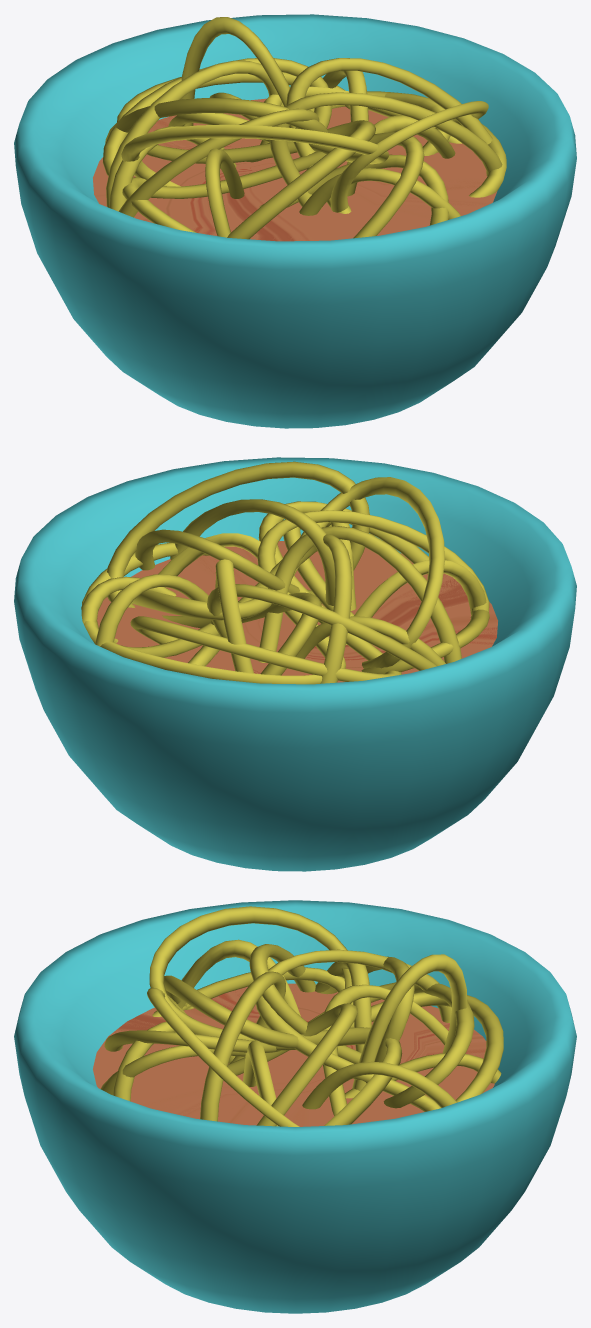
File: cookedPasta.obj
3 renders of one model, top to bottom at view 1: azimuth 30°, elevation 25°; view 2: azimuth 150°, elevation 25°; view 3: azimuth 270°, elevation 25°, orthographic.
Parts seen in each view (by area): view 1: Sphere001, Cylinder001, Torus_Knot008, Torus_Knot006, Torus_Knot007, Torus_Knot009, Torus_Knot005, Torus_Knot002, Torus_Knot003, Torus_Knot004, Torus_Knot011, Torus_Knot001 (+1 smaller); view 2: Sphere001, Cylinder001, Torus_Knot010, Torus_Knot009, Torus_Knot007, Torus_Knot006, Torus_Knot001, Torus_Knot008, Torus_Knot011, Torus_Knot002, Torus_Knot004, Torus_Knot005 (+1 smaller); view 3: Sphere001, Cylinder001, Torus_Knot009, Torus_Knot008, Torus_Knot004, Torus_Knot007, Torus_Knot005, Torus_Knot010, Torus_Knot006, Torus_Knot003, Torus_Knot011, Torus_Knot002 (+1 smaller).
Boxes of the visible parts, <box> form: Sphere001: <box>14,14,576,428</box>; Cylinder001: <box>93,98,497,241</box>; Torus_Knot008: <box>180,17,455,237</box>; Torus_Knot006: <box>102,58,424,238</box>; Torus_Knot007: <box>117,72,375,239</box>; Torus_Knot009: <box>121,86,461,186</box>; Torus_Knot005: <box>122,58,492,232</box>; Torus_Knot002: <box>106,60,448,225</box>; Torus_Knot003: <box>209,92,502,208</box>; Torus_Knot004: <box>109,70,460,219</box>; Torus_Knot011: <box>105,91,506,197</box>; Torus_Knot001: <box>118,92,452,217</box>; Sphere001: <box>14,457,576,871</box>; Cylinder001: <box>97,541,497,682</box>; Torus_Knot010: <box>107,461,369,675</box>; Torus_Knot009: <box>131,477,444,668</box>; Torus_Knot007: <box>100,510,489,684</box>; Torus_Knot006: <box>130,501,428,681</box>; Torus_Knot001: <box>81,526,461,663</box>; Torus_Knot008: <box>158,533,486,673</box>; Torus_Knot011: <box>82,534,352,683</box>; Torus_Knot002: <box>207,519,436,670</box>; Torus_Knot004: <box>95,522,445,666</box>; Torus_Knot005: <box>135,529,489,674</box>; Sphere001: <box>14,900,576,1313</box>; Cylinder001: <box>93,983,494,1126</box>; Torus_Knot009: <box>149,906,402,1125</box>; Torus_Knot008: <box>177,939,467,1126</box>; Torus_Knot004: <box>113,962,457,1109</box>; Torus_Knot007: <box>164,975,503,1102</box>; Torus_Knot005: <box>152,967,357,1126</box>; Torus_Knot010: <box>147,984,448,1126</box>; Torus_Knot006: <box>104,982,474,1108</box>; Torus_Knot003: <box>200,971,501,1121</box>; Torus_Knot011: <box>256,949,451,1111</box>; Torus_Knot002: <box>100,956,414,1095</box>.
Bounding box in the file's own units: 26.91 × 16.15 × 26.91.
